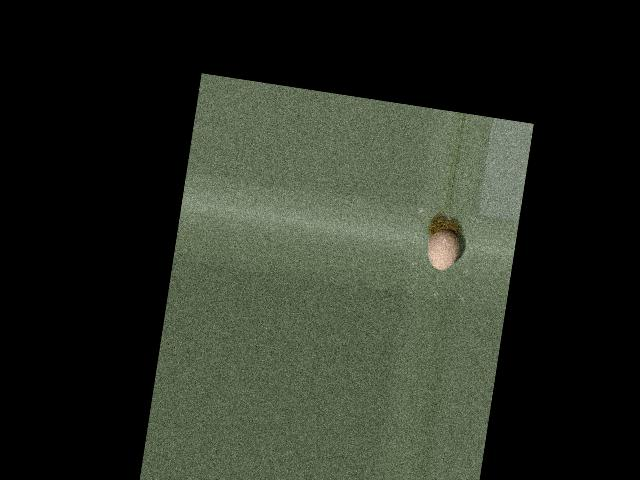egg: (425, 228, 461, 272)
